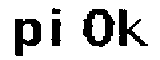0: (78, 6, 115, 49)
i: (49, 6, 66, 49)
k: (116, 5, 151, 51)
p: (10, 14, 42, 60)
